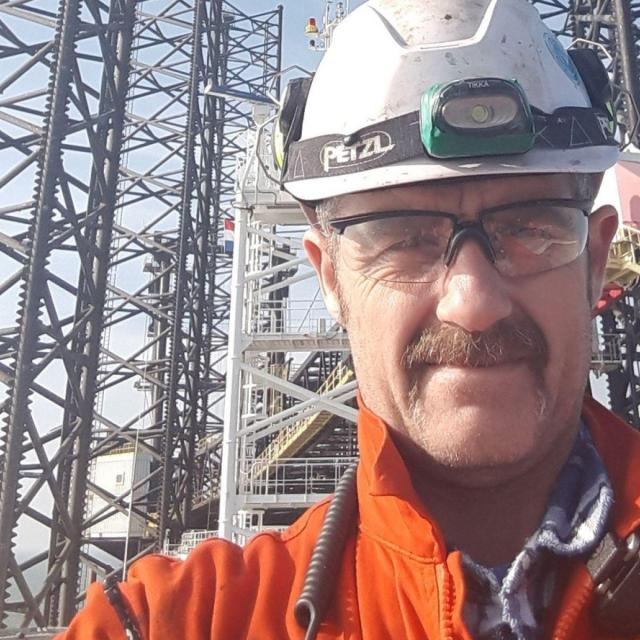helmet: (281, 0, 625, 205)
